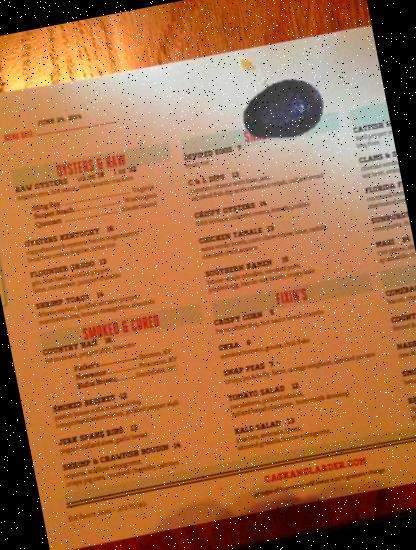Avocado: (234, 61, 330, 158)
